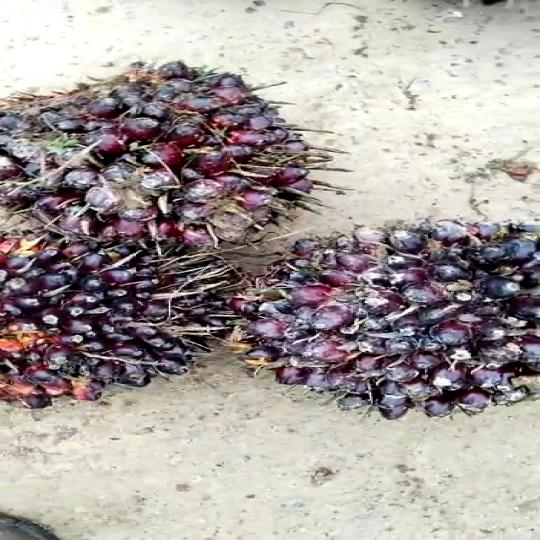kurang masak: (4, 67, 322, 264), (223, 214, 540, 411), (0, 223, 233, 425)
